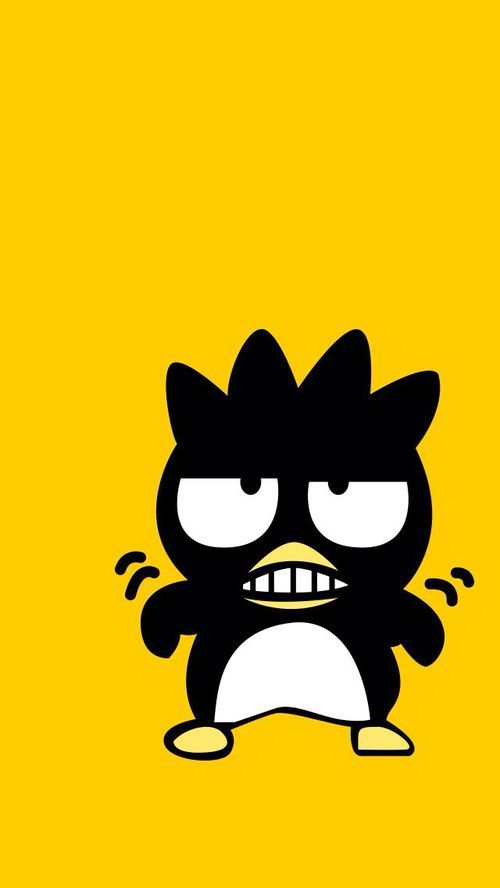batsumaru: (134, 330, 451, 759)
